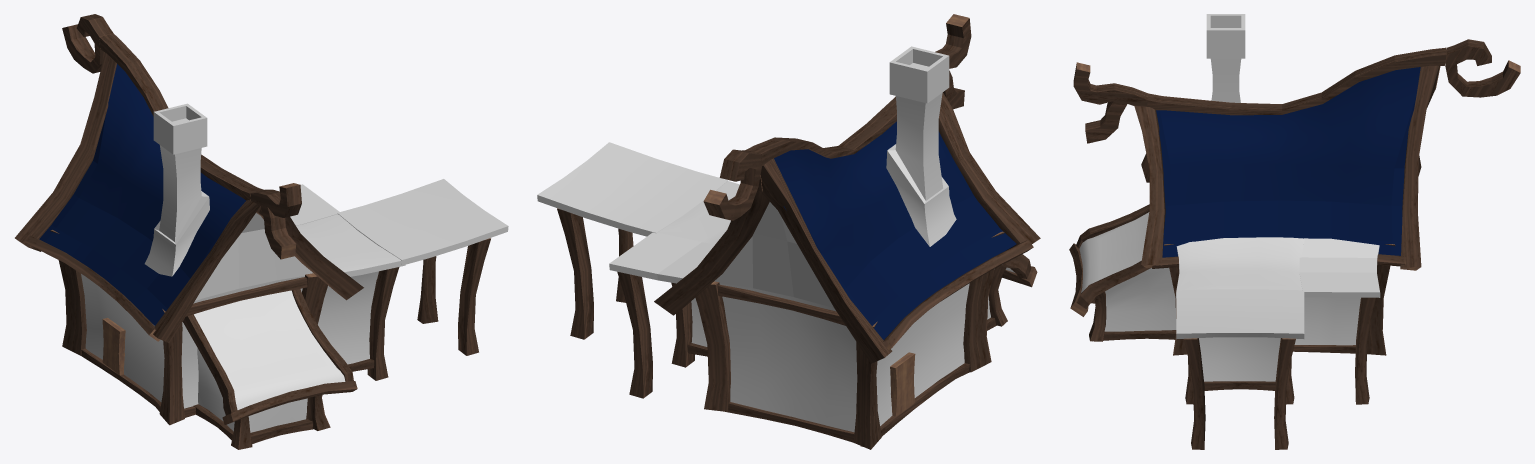
File: Market1.fbx
3 views of the same model, side by side, from view 1: azimuth 30°, elevation 25°; view 2: azimuth 150°, elevation 25°; view 3: azimuth 270°, elevation 25° (orthographic). The views are drawn at different scales.
Parts seen in each view (by area): view 1: Box1347, Object1622, Object1610, Object1613, Box1475, Object1599, Object1837, Object1611, Object1598, Box1345, Object1628, Object1590 (+19 smaller); view 2: Object1610, Box1347, Object1613, Box1475, Object1599, Object1609, Object1598, Object1612, Object1600, Object1618, Object1617, Object1591 (+12 smaller); view 3: Box1347, Object1611, Object1613, Object1612, Box1345, Object1628, Object1837, Object1609, Box1475, Object1622, Object1608, Object1610 (+14 smaller).
Part boxes in pixels (<box>): Box1347: <box>39,64,245,325</box>; Object1622: <box>194,290,345,409</box>; Object1610: <box>81,213,313,408</box>; Object1613: <box>337,179,508,265</box>; Box1475: <box>144,103,209,276</box>; Object1599: <box>15,52,116,251</box>; Object1837: <box>318,271,378,364</box>; Object1611: <box>296,214,406,276</box>; Object1598: <box>153,200,260,343</box>; Box1345: <box>99,33,263,200</box>; Object1628: <box>197,347,307,432</box>; Object1590: <box>250,183,301,259</box>; Object1610: <box>714,202,969,432</box>; Box1347: <box>774,121,1016,339</box>; Object1613: <box>537,142,728,236</box>; Box1475: <box>886,46,956,246</box>; Object1599: <box>759,158,892,363</box>; Object1609: <box>654,175,769,315</box>; Object1598: <box>938,92,1040,246</box>; Object1612: <box>609,232,714,283</box>; Object1600: <box>695,281,730,411</box>; Object1618: <box>557,208,593,339</box>; Object1617: <box>617,271,652,398</box>; Object1591: <box>703,149,761,220</box>; Box1347: <box>1156,67,1420,257</box>; Object1611: <box>1176,237,1304,297</box>; Object1613: <box>1176,289,1304,339</box>; Object1612: <box>1299,238,1380,297</box>; Box1345: <box>1147,47,1446,115</box>; Object1628: <box>1104,267,1176,331</box>; Object1837: <box>1199,337,1280,381</box>; Object1609: <box>1400,65,1439,270</box>; Box1475: <box>1206,14,1245,102</box>; Object1622: <box>1079,212,1149,292</box>; Object1608: <box>1134,106,1165,268</box>; Object1610: <box>1294,297,1360,345</box>.
Bounding box in the file's own units: 809 × 613 × 862.
